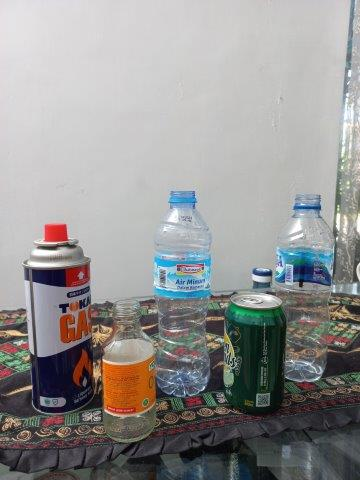botolkaca: (102, 299, 157, 443)
botolplastik: (155, 191, 210, 395), (274, 196, 330, 387)
kaleng: (22, 225, 93, 417), (222, 293, 287, 415)
